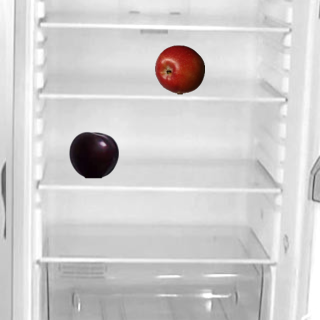Apple Braeburn: (154, 44, 204, 94)
Cherry Wax Black: (68, 129, 118, 179)
